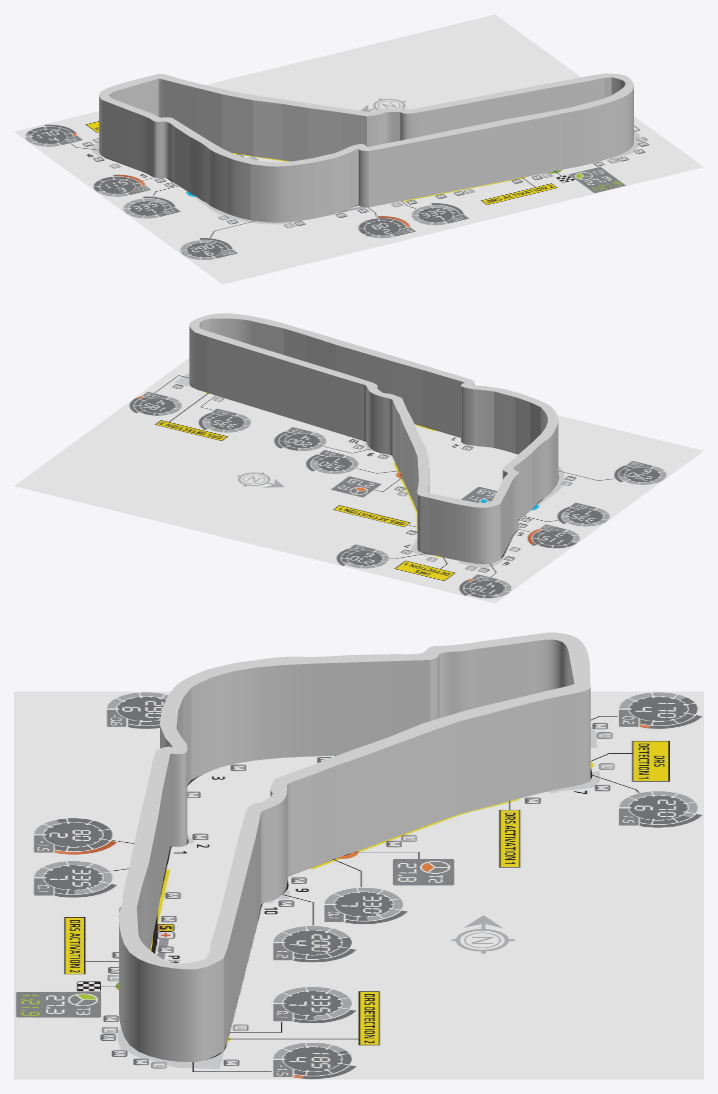
File: Monza_PianoPista.fbx
3 renders of one model, top to bottom at view 1: azimuth 30°, elevation 25°; view 2: azimuth 150°, elevation 25°; view 3: azimuth 270°, elevation 25°, orthographic. The views are drawn at different scales.
Visible parts, largest first — view 1: monza, Monza; view 2: Monza, monza; view 3: Monza, monza.
Part boxes in pixels (x1,y1,x2,y2): monza: [99, 73, 633, 222]; Monza: [14, 14, 703, 284]; Monza: [14, 358, 703, 603]; monza: [189, 313, 558, 563]; Monza: [14, 691, 703, 1079]; monza: [119, 632, 590, 1061].
Bounding box in the file's own units: 17.95 × 2 × 13.49.
Materials: 1 (1 with a texture image).
